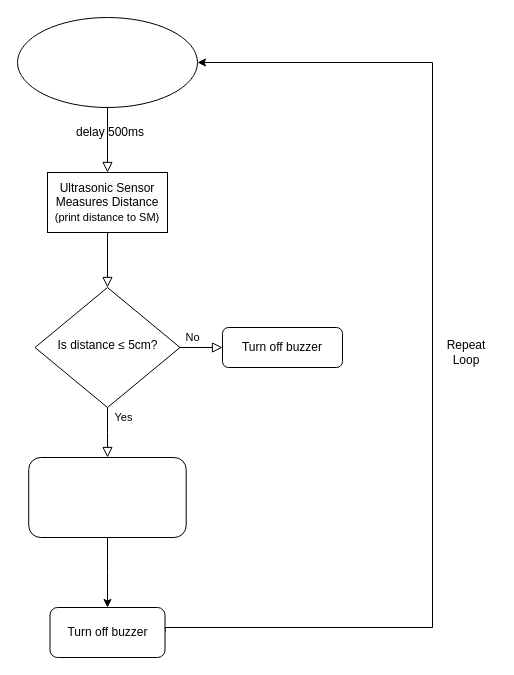
This 514x675 diagram has some shape labels left out. The shapes that lost their labels are listed below. From the top down, each one's box as (x1, y1, x2, y2) in pixels, then its label:
(16, 16, 198, 108): Start I nitial components (ESP8266, Buzzer, Ultrasonic sensor)
(28, 456, 186, 538): Turn on Buzzer: Play melody(through notes in array)
